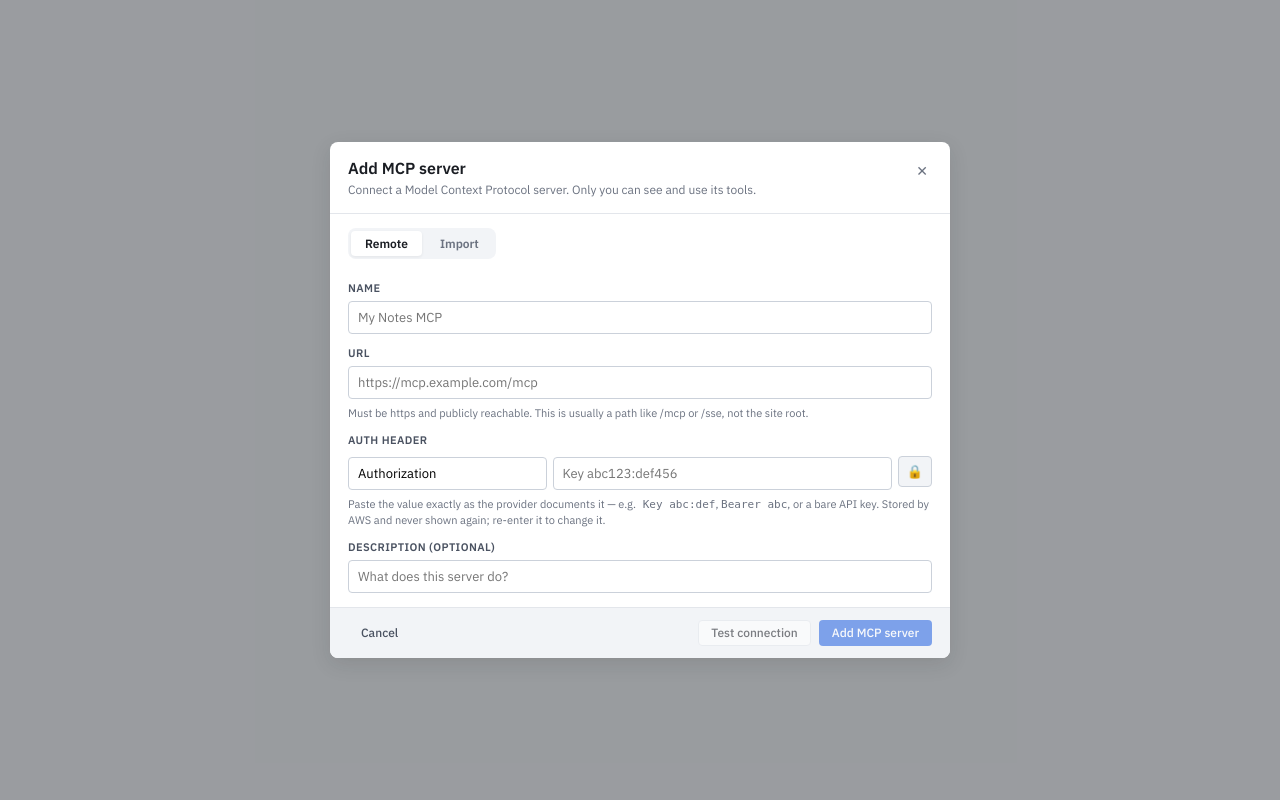
Scenario: probe result › reports zero tools as a caveat rather than a bare success
The width and height of the screenshot is (1280, 800).
Type "https://m.example.com/mcp" into the field with placeholder "https://mcp.example.com/mcp" at coordinates (640, 382), box [348, 366, 932, 399]
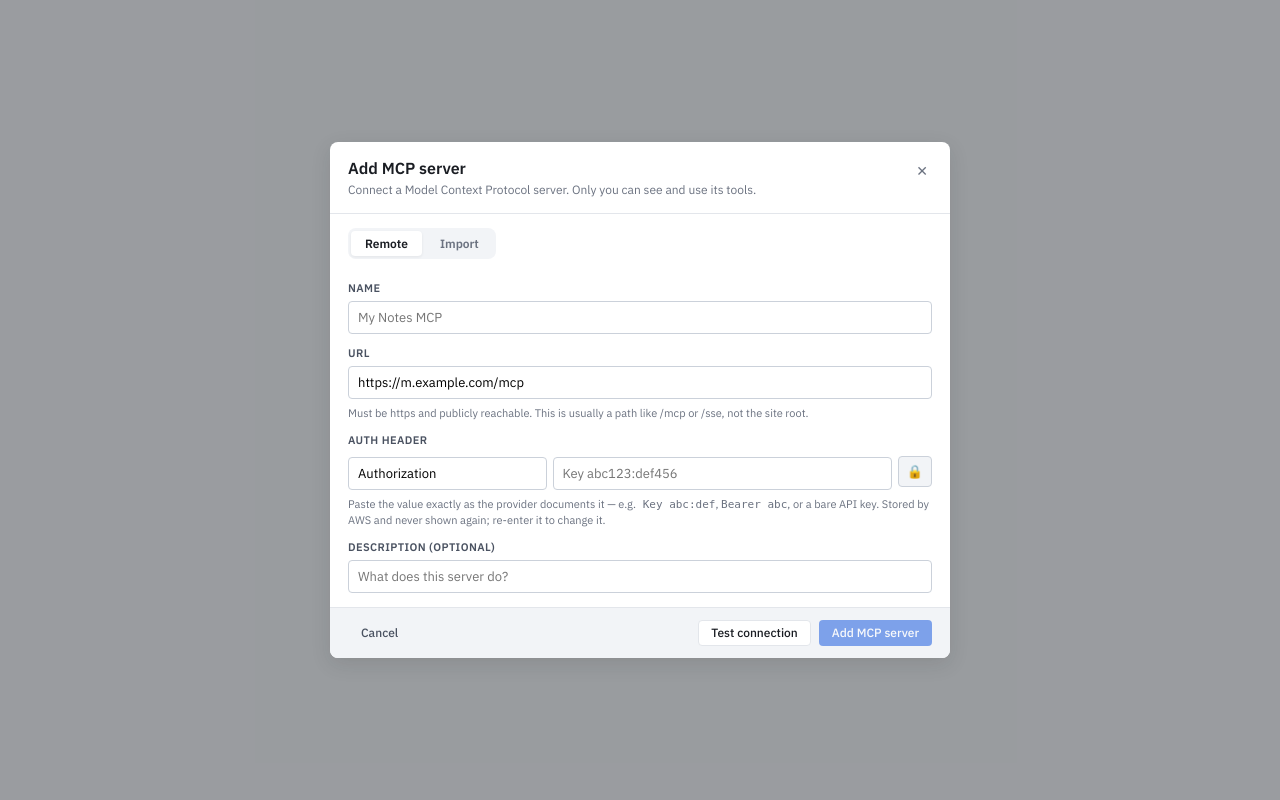
Click the button "Test connection" at coordinates (755, 633), box [698, 620, 811, 646]
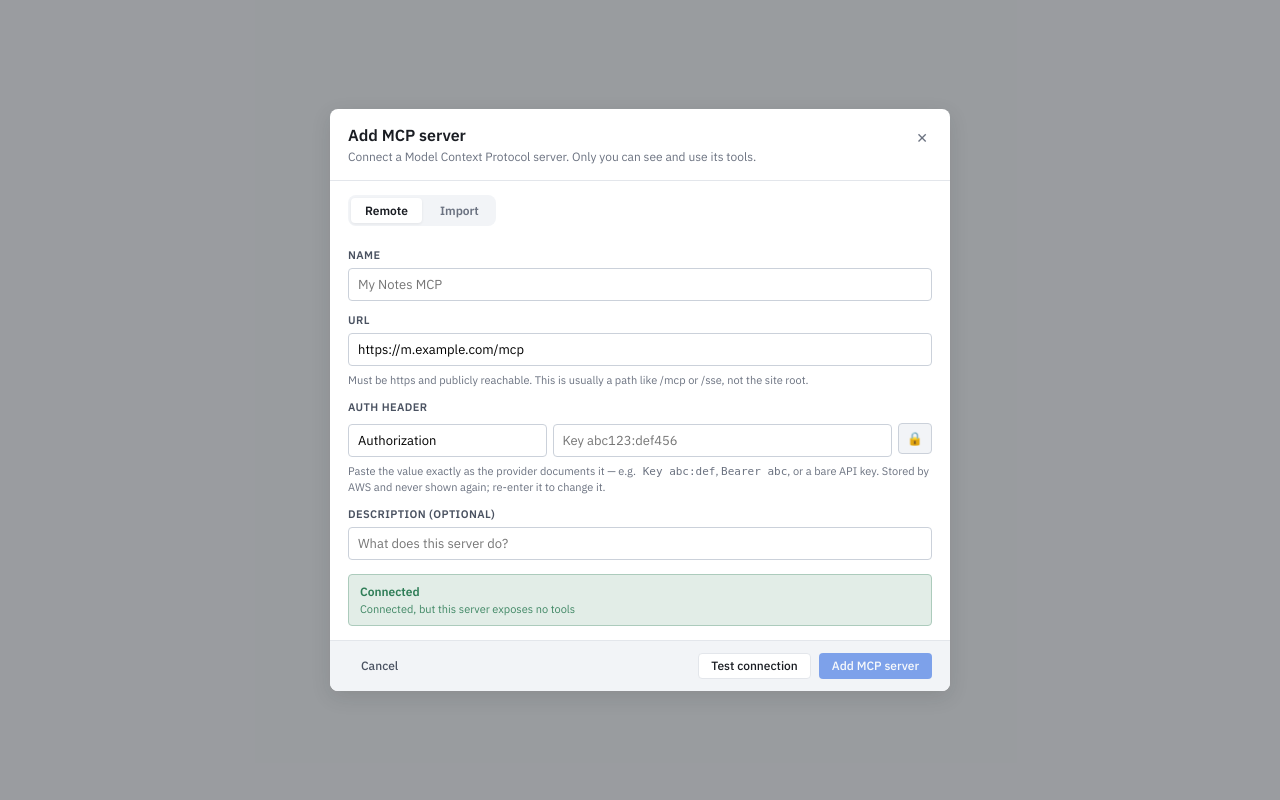
Check: the text "Connected, but this server exposes no tools" is shown, box [360, 602, 575, 616]
